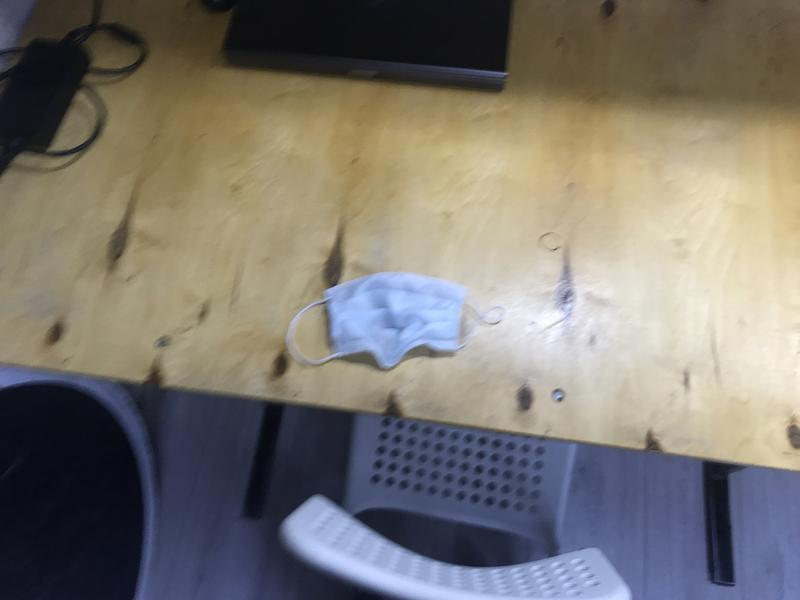medical_mask: (285, 270, 506, 369)
